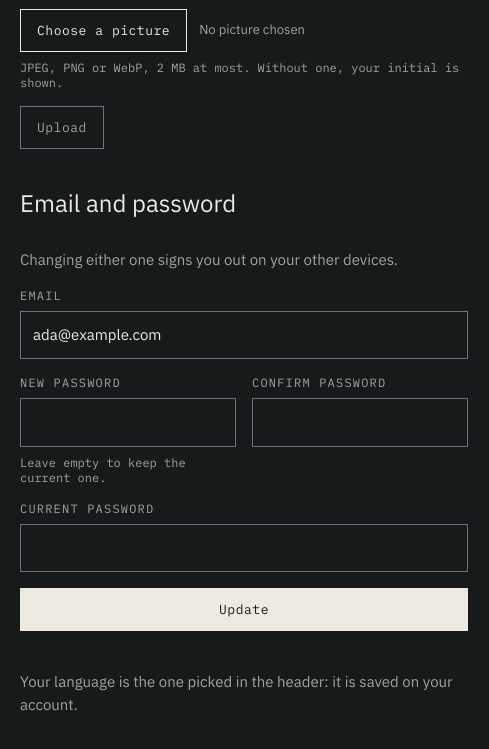
it: ProfilePage email and password form › says only the password changed when the email was left as is
The image size is (489, 749).
(page scrolled)
Type "new-secret-123" into the password field labelled "New password" at [128, 423], box [20,398,236,447]
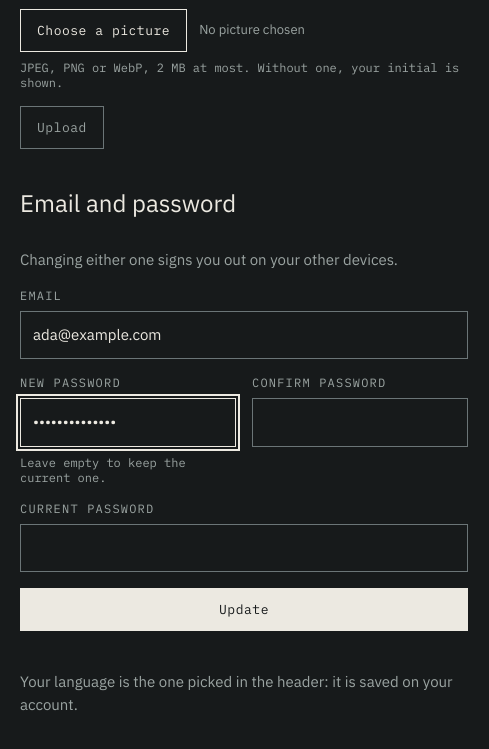
Type "new-secret-123" into the password field labelled "Confirm password" at [360, 423], box [252,398,468,447]
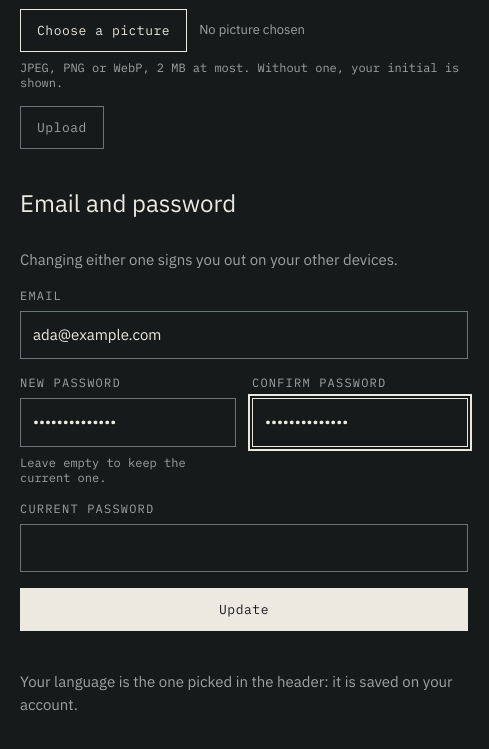
Type "secret-123" into the password field labelled "Current password" at [244, 548], box [20,524,468,572]
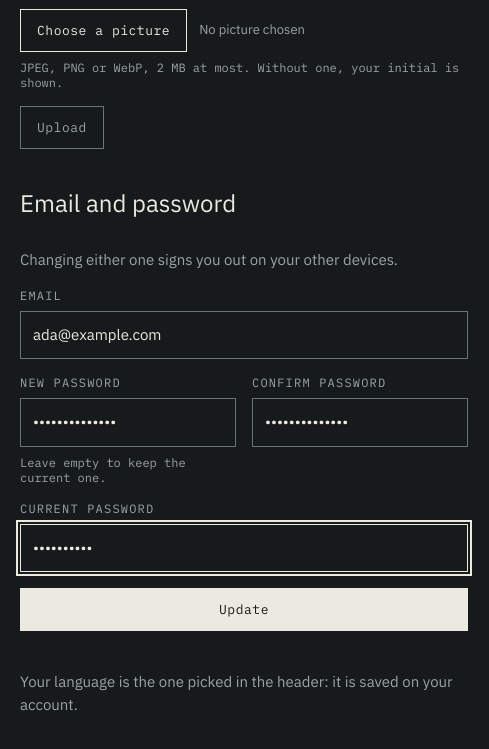
Click the button "Update" at [244, 610], box [20,588,468,631]
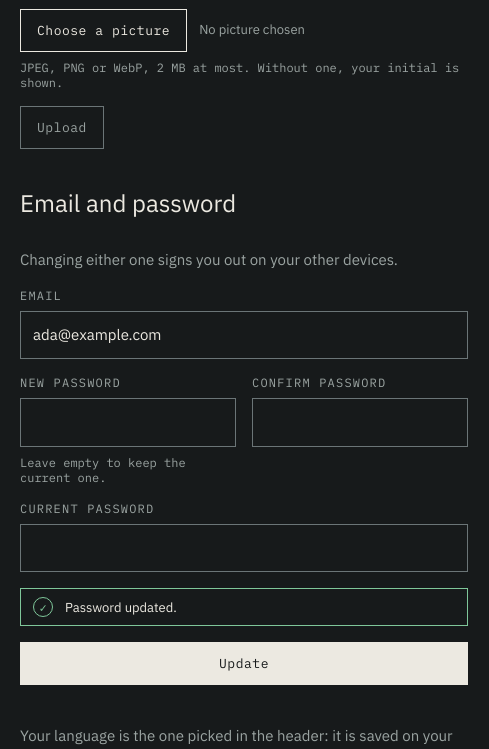
Check: the text "Password updated." is shown, box [65,598,177,617]
